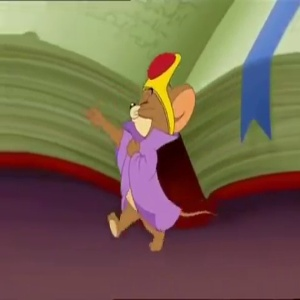Jerry: (123, 49, 199, 141)
